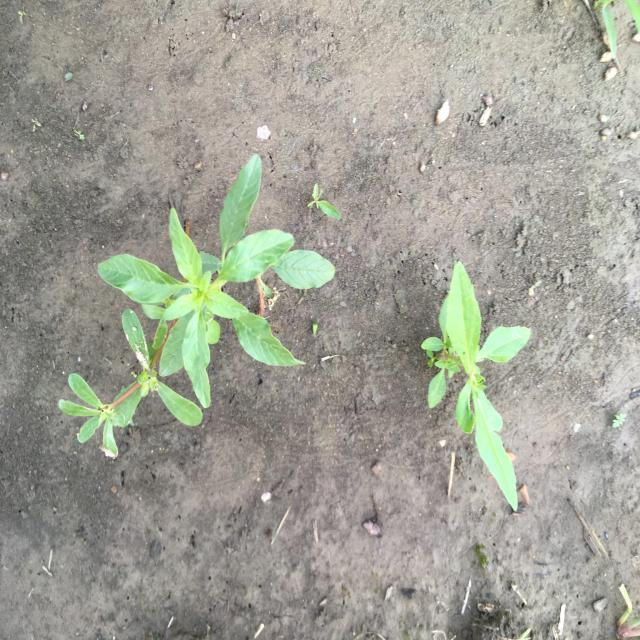Eclipta: (420, 258, 531, 514)
Purslane: (58, 212, 205, 461)
Waterhemp: (96, 152, 338, 412)
